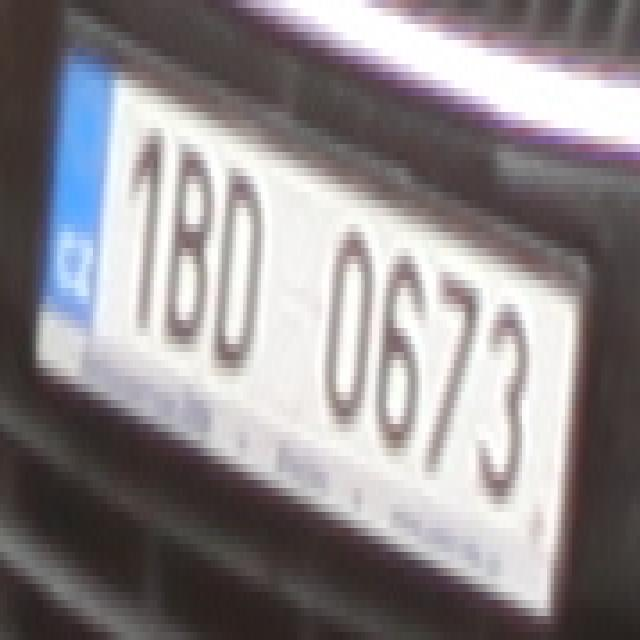0: (322, 216, 375, 424)
1: (114, 112, 161, 352)
3: (479, 248, 533, 504)
6: (379, 224, 425, 456)
7: (426, 224, 476, 488)
B: (168, 136, 215, 360)
D: (211, 144, 268, 376)
